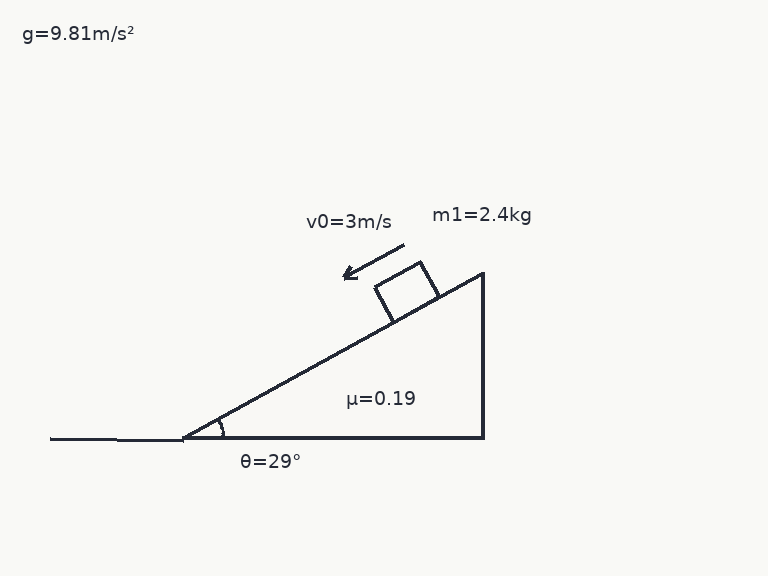block: (372, 260, 441, 324)
ramp: (181, 270, 484, 440)
